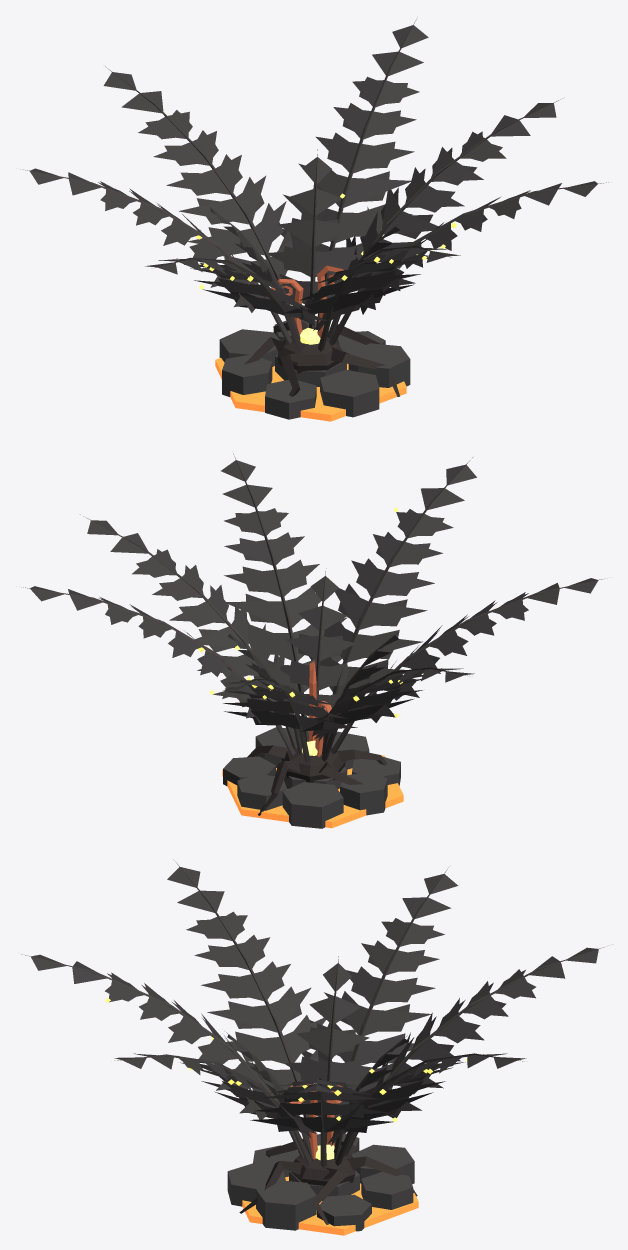
Rendered from plant_t3_b.fbx.
3 views of the same model, one above another, from view 1: azimuth 30°, elevation 25°; view 2: azimuth 150°, elevation 25°; view 3: azimuth 270°, elevation 25° (orthographic). The views are drawn at different scales.
Parts seen in each view (by area): view 1: plant_t3_b; view 2: plant_t3_b; view 3: plant_t3_b.
Part boxes in pixels (x1,y1,x2,y2): plant_t3_b: [20, 19, 608, 421]; plant_t3_b: [21, 453, 604, 828]; plant_t3_b: [21, 859, 604, 1235].
Size of the model in its own units: 84.46 by 39.3 by 90.6.
